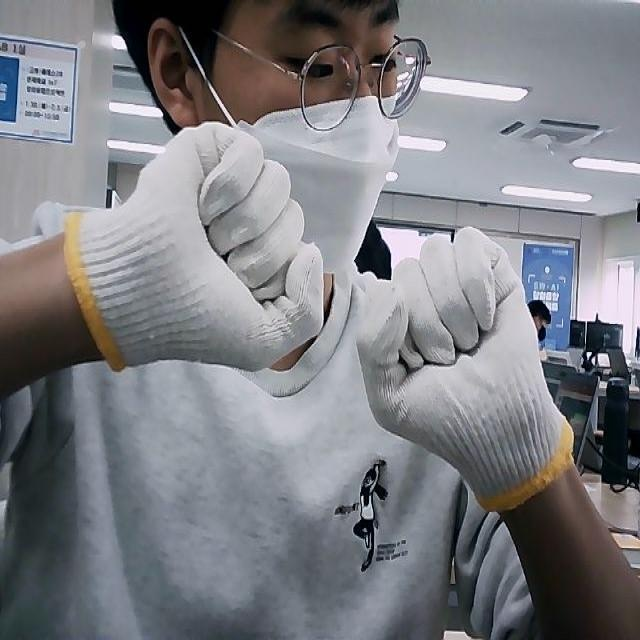Guantes: (356, 226, 578, 513), (66, 122, 326, 364)
